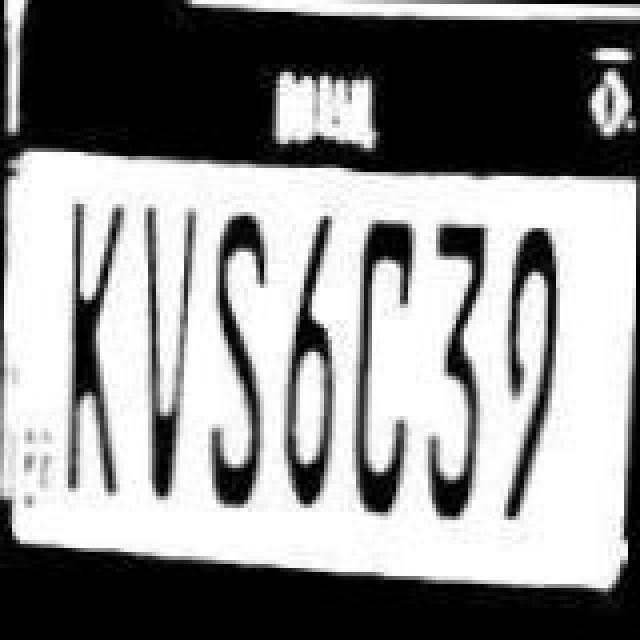3: (418, 212, 494, 528)
6: (272, 202, 352, 510)
9: (492, 216, 572, 528)
C: (344, 214, 416, 526)
K: (50, 198, 134, 506)
S: (200, 198, 280, 502)
V: (130, 192, 198, 508)
